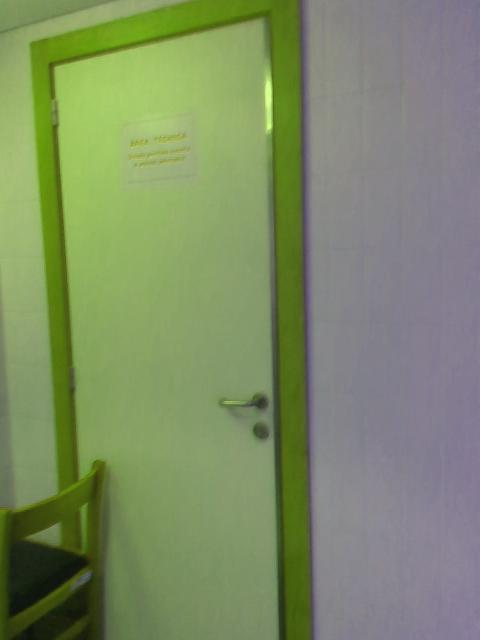closed_door: (29, 1, 312, 639)
